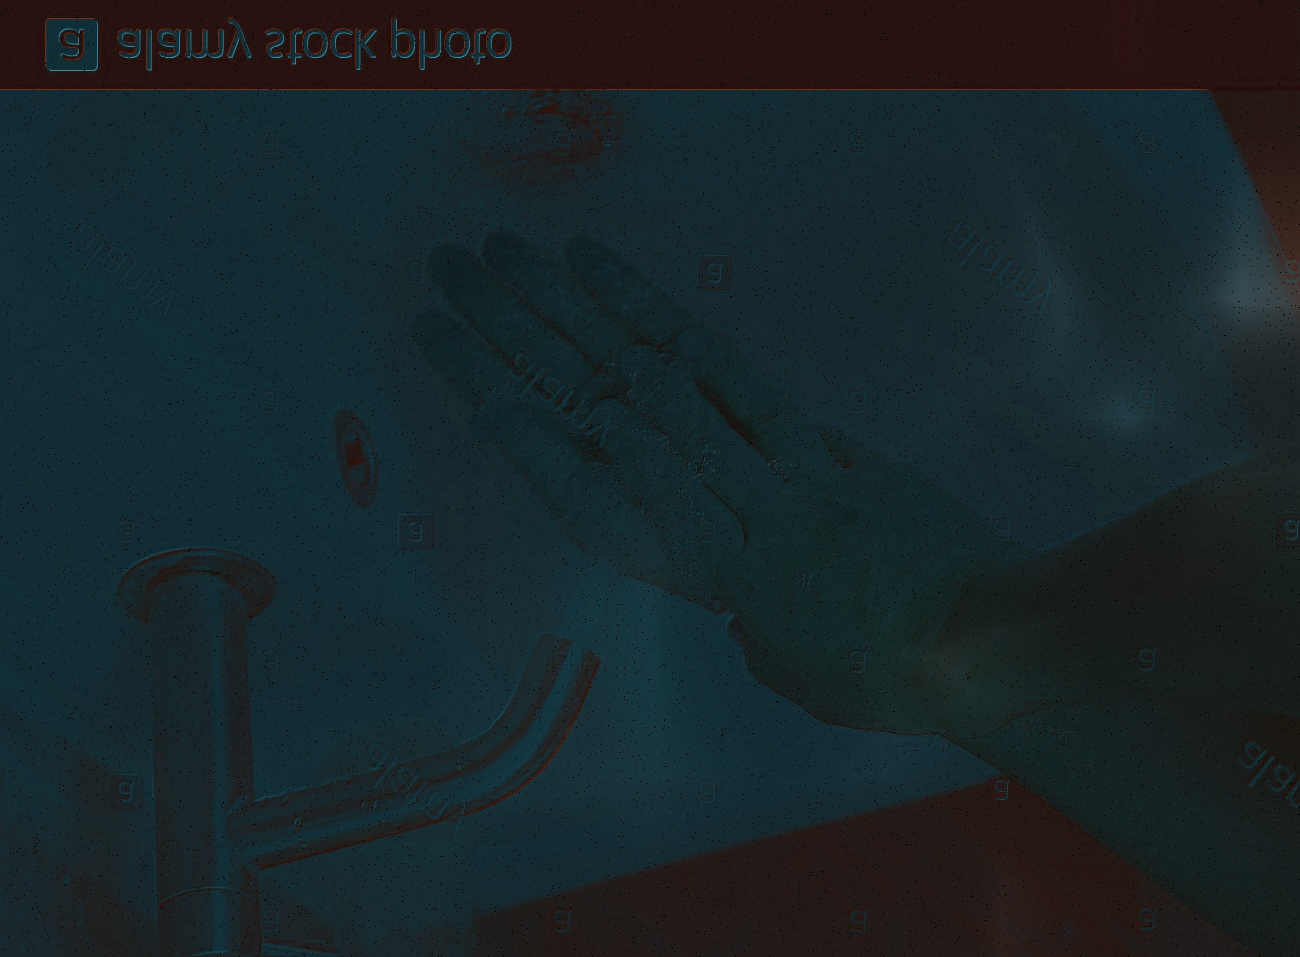washing hand: (160, 186, 903, 906)
